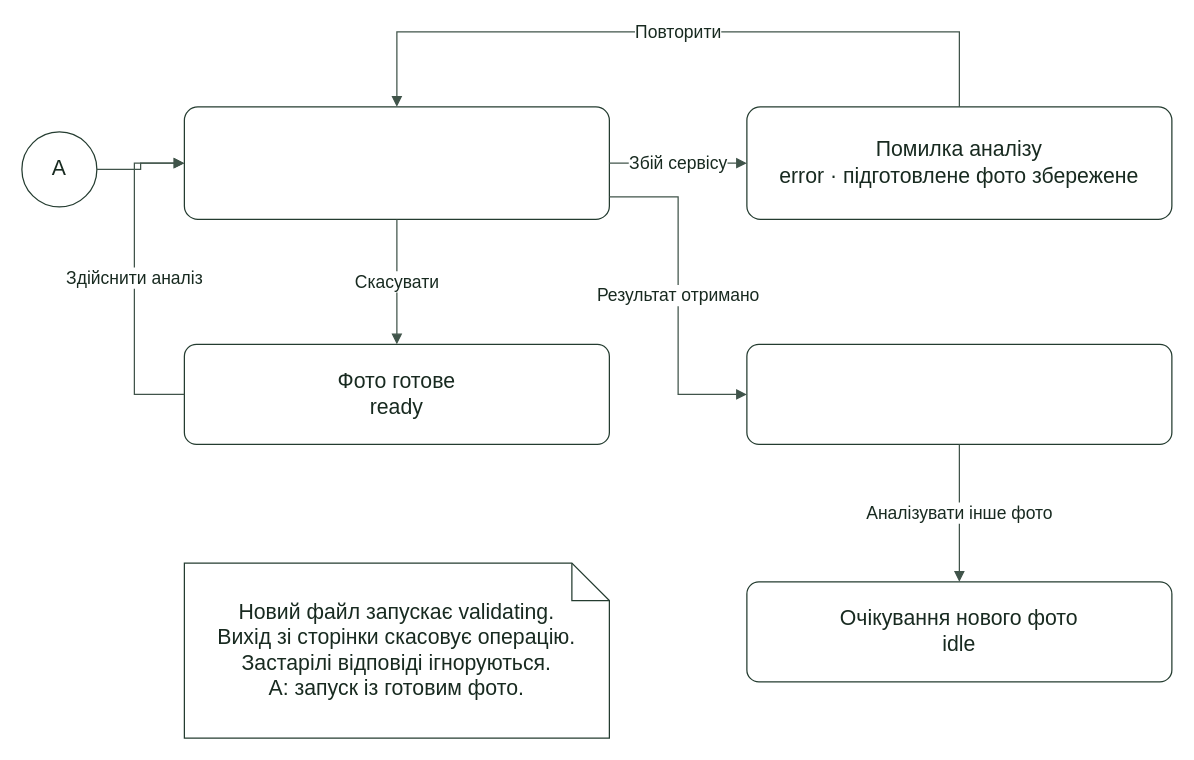
The diagram is 1194 pixels wide and 760 high, and some of its shapes have lost their labels. The shapes that lost their labels are listed below. From the top down, each one's box as (x1, y1, x2, y2) in pixels, then its label:
(183, 106, 609, 219): Аналіз виконується analyzing · повторний запуск заблоковано
(746, 343, 1172, 444): Результат result · дашборд замість форми
